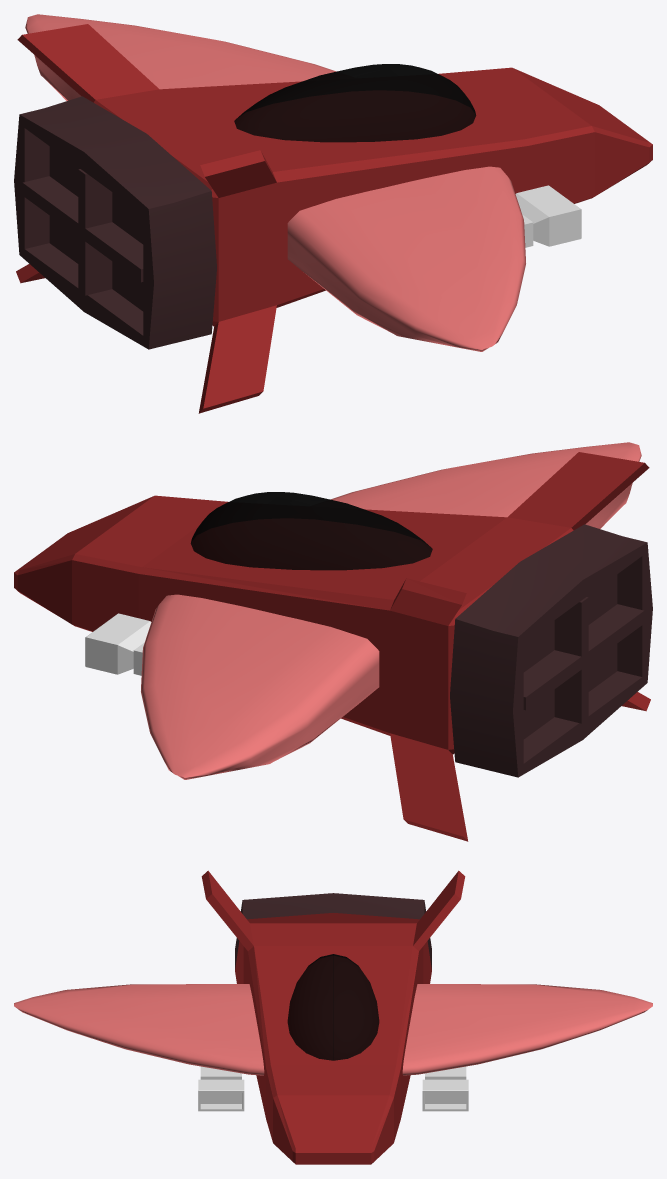
File: PlayerShip.fbx
3 views of the same model, one above another, from view 1: azimuth 30°, elevation 25°; view 2: azimuth 150°, elevation 25°; view 3: azimuth 270°, elevation 25° (orthographic). The views are drawn at different scales.
Parts seen in each view (by area): view 1: polySurface1, Wings, polySurface2, Cockpit, RightGun; view 2: polySurface1, Wings, polySurface2, Cockpit, LeftGun; view 3: polySurface1, Wings, Cockpit, polySurface2, LeftGun, RightGun.
Boxes of the visible parts, box(x1,y1,x2,y2) form: polySurface1: box(16, 24, 652, 413); Wings: box(25, 14, 525, 351); polySurface2: box(14, 96, 216, 349); Cockpit: box(234, 64, 476, 142); RightGun: box(515, 185, 581, 247); polySurface1: box(14, 452, 650, 841); Wings: box(141, 442, 641, 779); polySurface2: box(450, 524, 652, 777); Cockpit: box(190, 492, 432, 570); LeftGun: box(85, 613, 151, 675); polySurface1: box(201, 870, 465, 1164); Wings: box(14, 984, 652, 1075); Cockpit: box(287, 954, 379, 1060); polySurface2: box(235, 893, 431, 969); LeftGun: box(422, 1066, 468, 1111); RightGun: box(198, 1066, 244, 1111).
Bounding box in the file's own units: 4.85 × 2.11 × 7.01.
